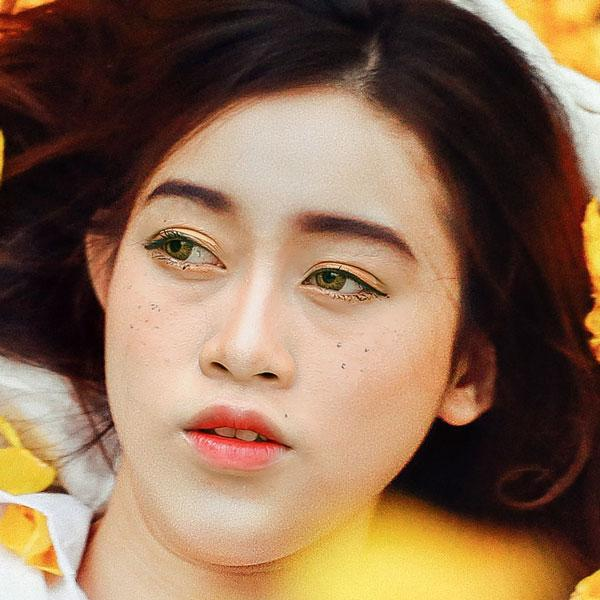Eyes: (294, 251, 391, 310), (138, 218, 232, 278)
